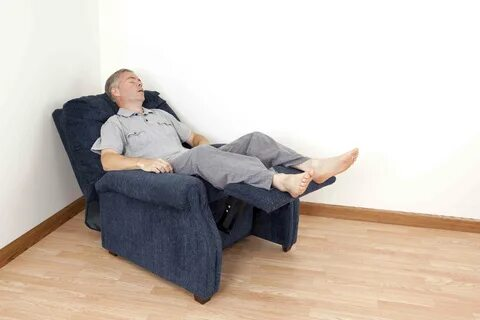sleep: (91, 66, 360, 200)
